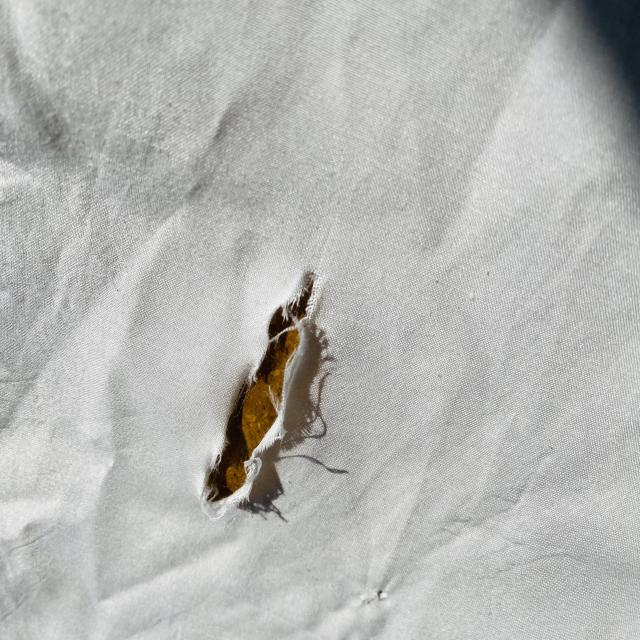hole: (200, 262, 324, 509)
